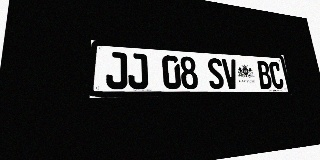0: (161, 55, 181, 89)
8: (179, 56, 198, 89)
B: (256, 61, 273, 89)
C: (268, 61, 285, 89)
J: (106, 51, 127, 89), (127, 53, 148, 89)
S: (206, 58, 225, 89)
V: (221, 59, 239, 89)
